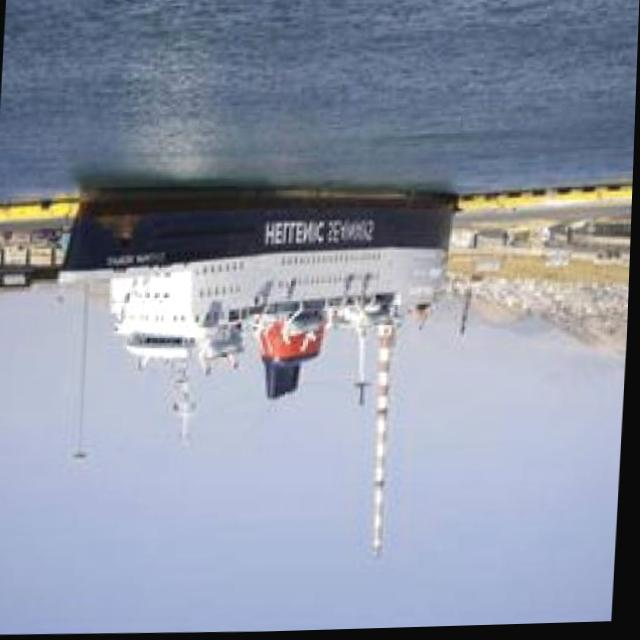ship2: (59, 186, 460, 444)
